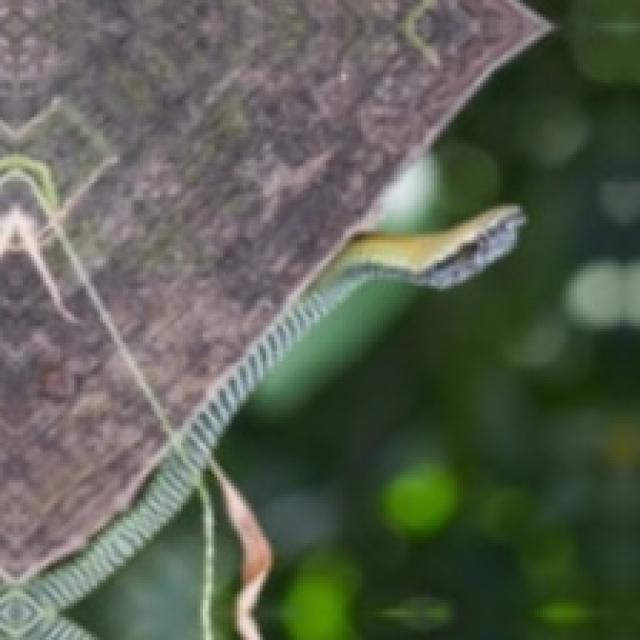paradise tree snake: (0, 0, 546, 637), (0, 206, 523, 637)
